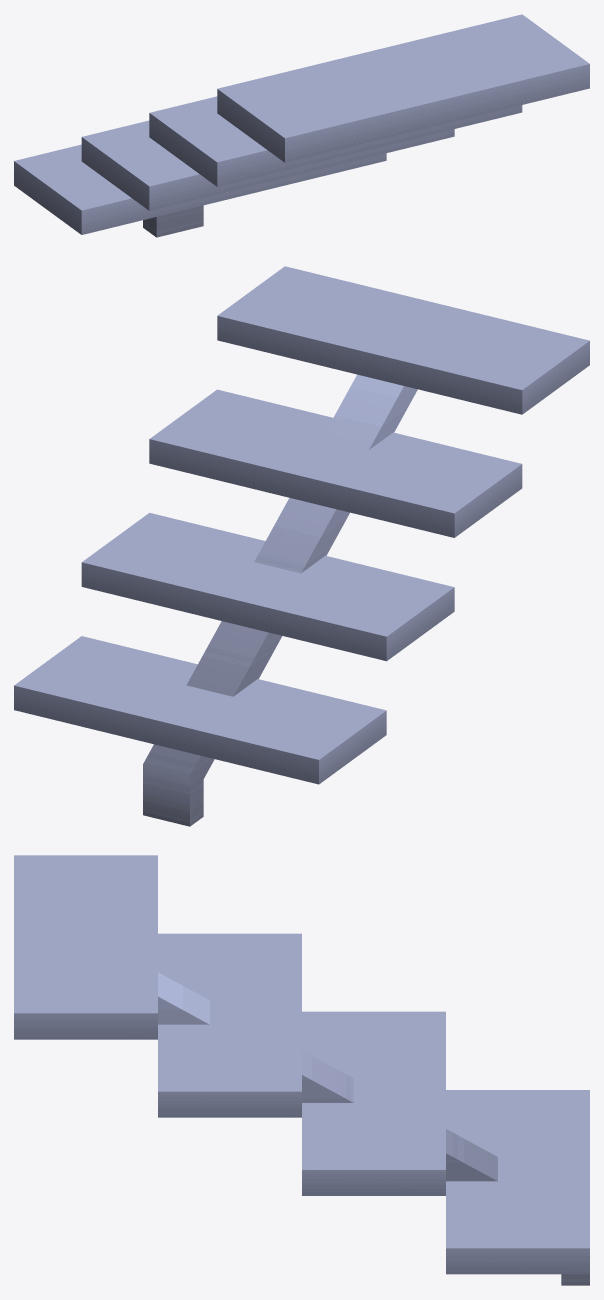
File: stairs-center-short.glb
3 renders of one model, top to bottom at view 1: azimuth 30°, elevation 25°; view 2: azimuth 150°, elevation 25°; view 3: azimuth 270°, elevation 25°, orthographic. The views are drawn at different scales.
Parts seen in each view (by area): view 1: stairs-center-short; view 2: stairs-center-short; view 3: stairs-center-short.
Part boxes in pixels (<box>): stairs-center-short: <box>14,14,589,237</box>; stairs-center-short: <box>14,266,589,826</box>; stairs-center-short: <box>14,855,589,1285</box>.
Bounding box in the file's own units: 1.3 × 1.3 × 2.
Materials: 1 (1 with a texture image).
